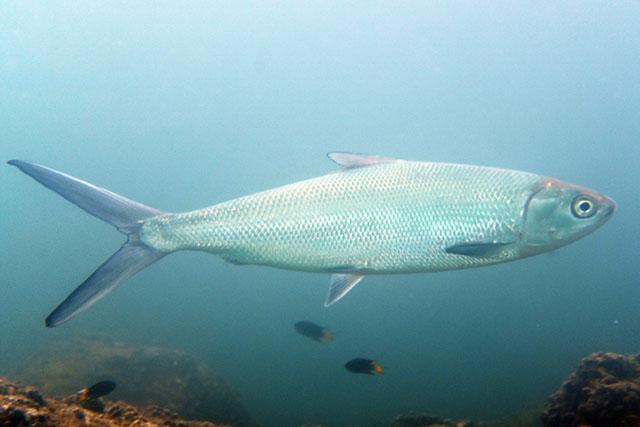Mulut: (567, 183, 633, 233)
Sirip Dada: (435, 226, 527, 280)
Sirip Ekor: (5, 150, 182, 350)
Sirip Perut: (315, 263, 377, 329)
Sirip Punggung: (311, 138, 411, 184)
